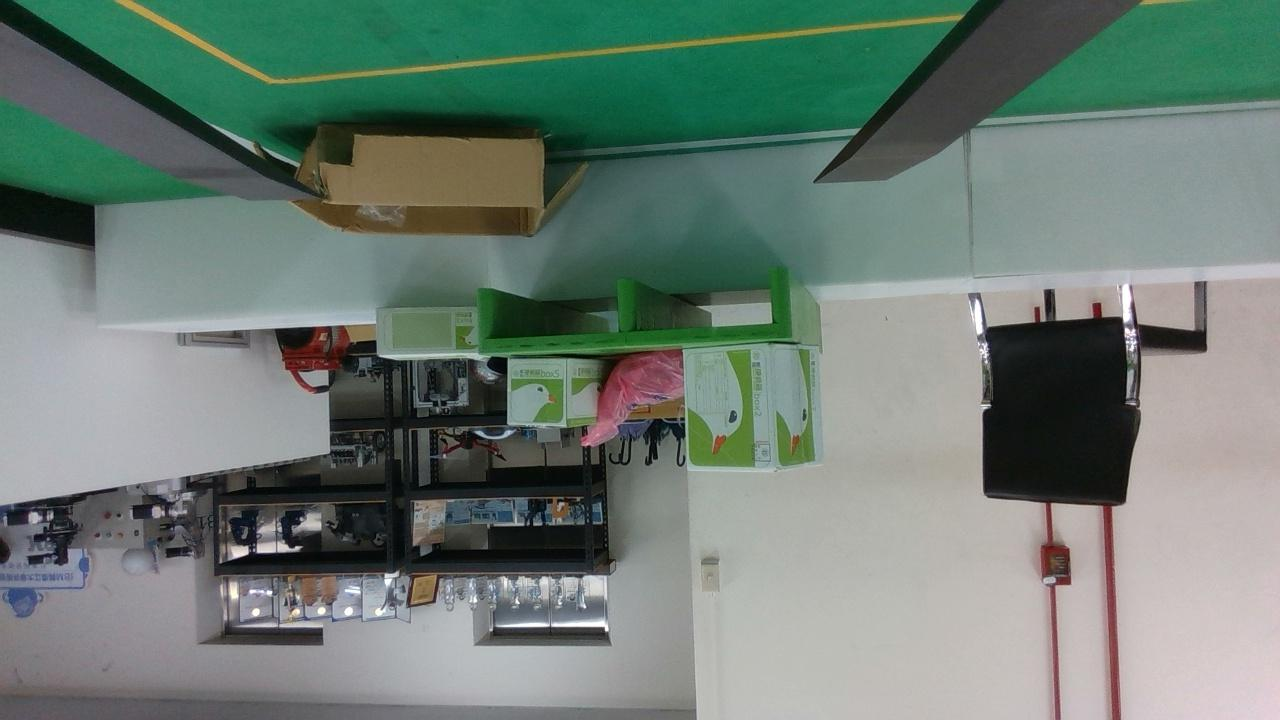Pallet: (477, 271, 793, 354)
